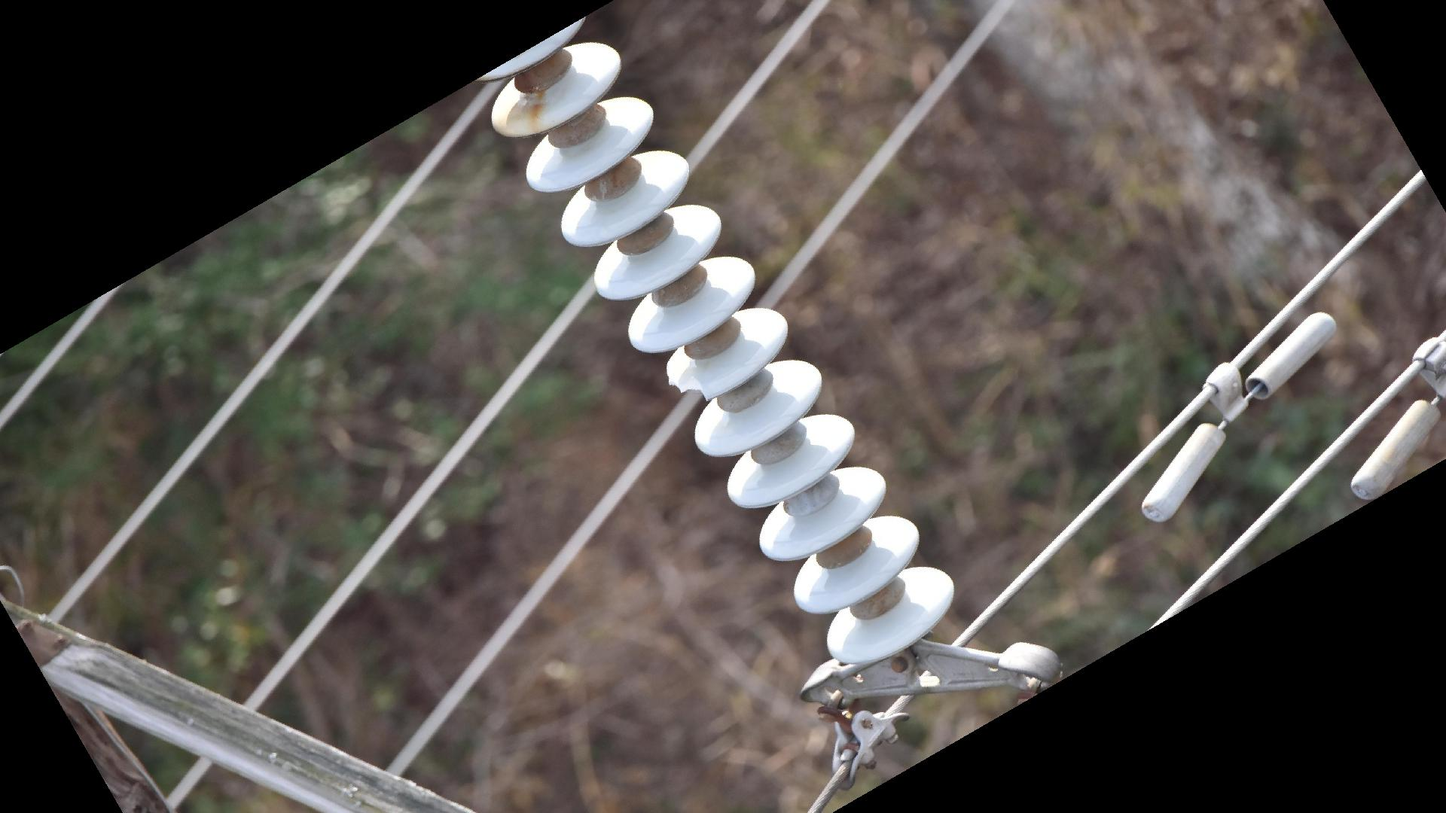insulator: (472, 1, 962, 671)
insulator_breakage: (659, 363, 712, 406)
